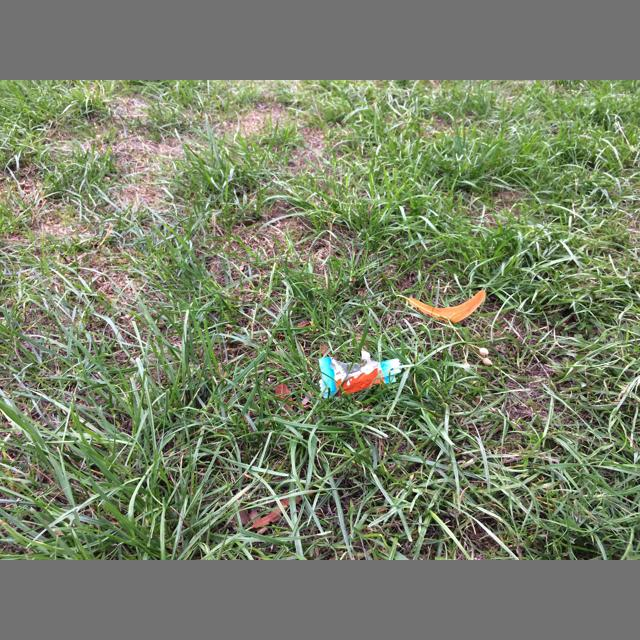litter: (319, 351, 401, 398)
